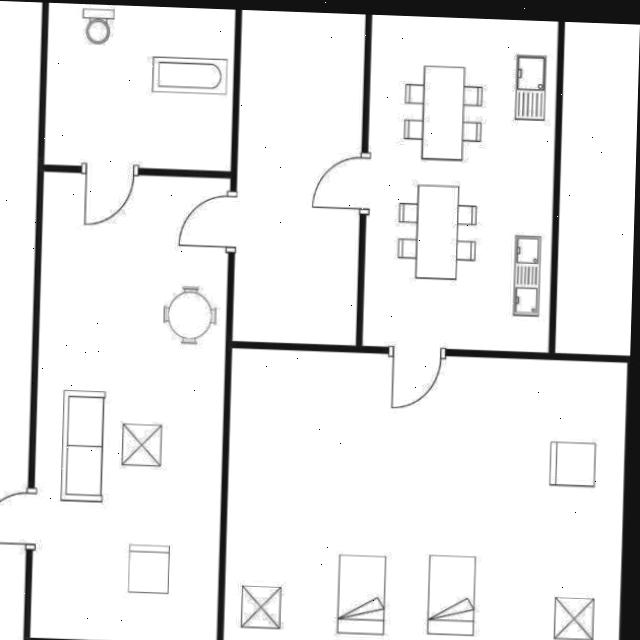room: (223, 347, 627, 640), (30, 171, 231, 640), (362, 14, 558, 352), (43, 2, 237, 170)
